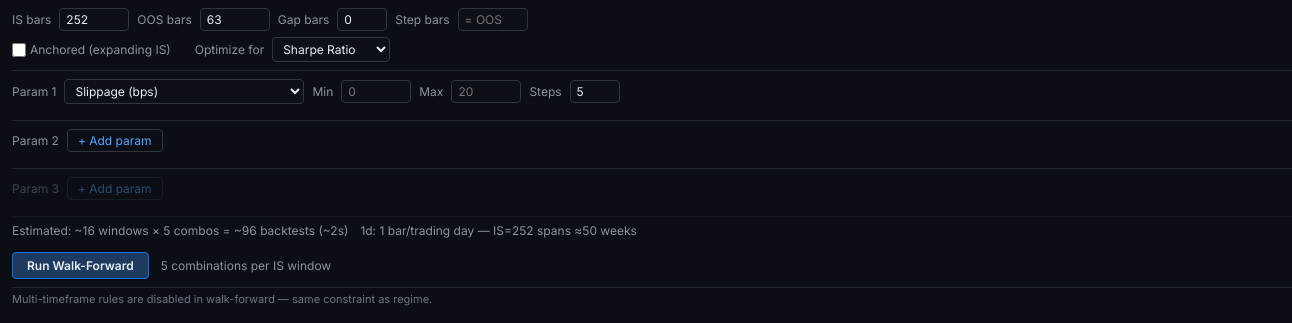
Test case: WalkForwardPanel › pre-flight estimate flags step_bars < oos_bars with red status
Step 1. Type "10" into the number field with placeholder "= OOS" → (493, 20), box [458,8,528,31]
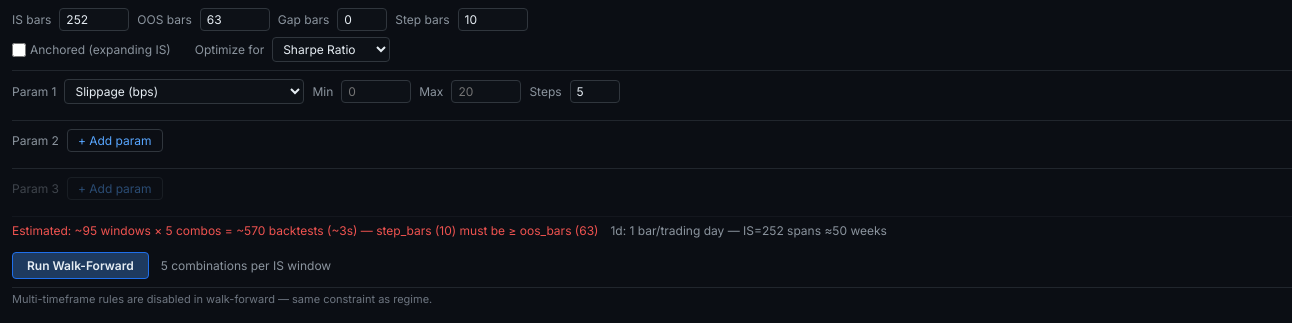
Now the text "must be ≥ oos_bars" is shown, box [357,223,598,238]
